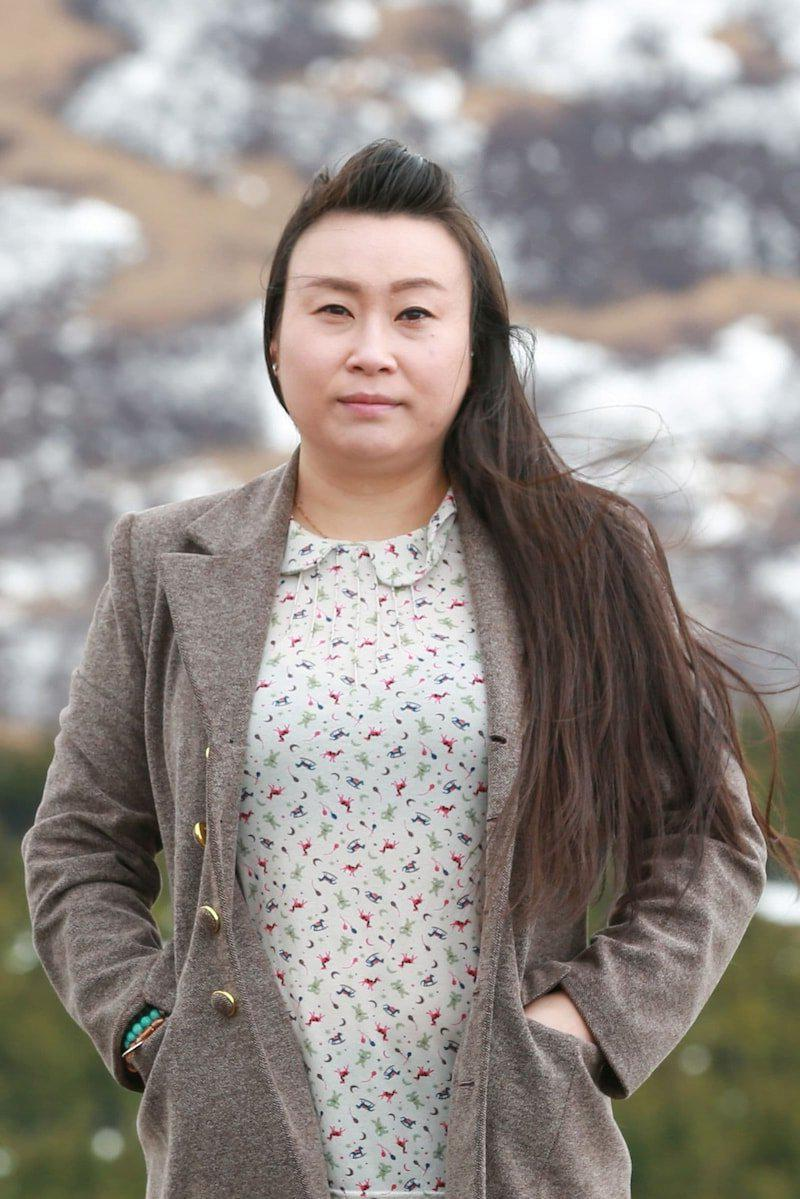Sober: (296, 223, 463, 446)
